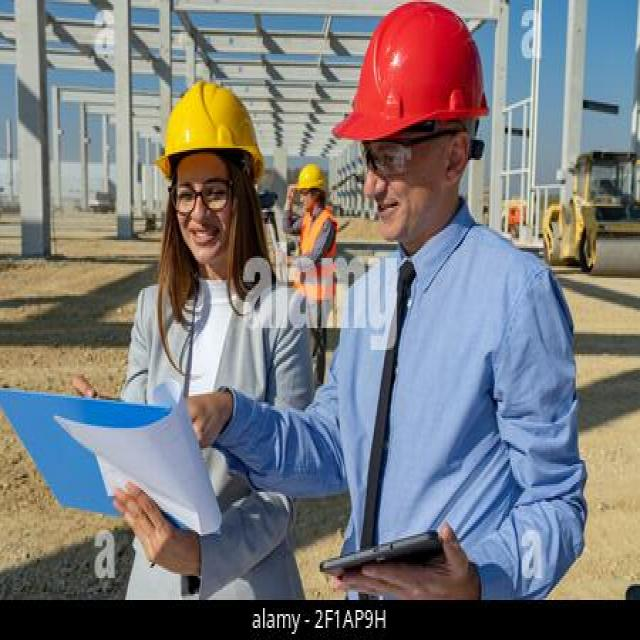Safety-Helmet: (333, 2, 489, 148), (152, 76, 266, 174), (296, 162, 327, 194)
